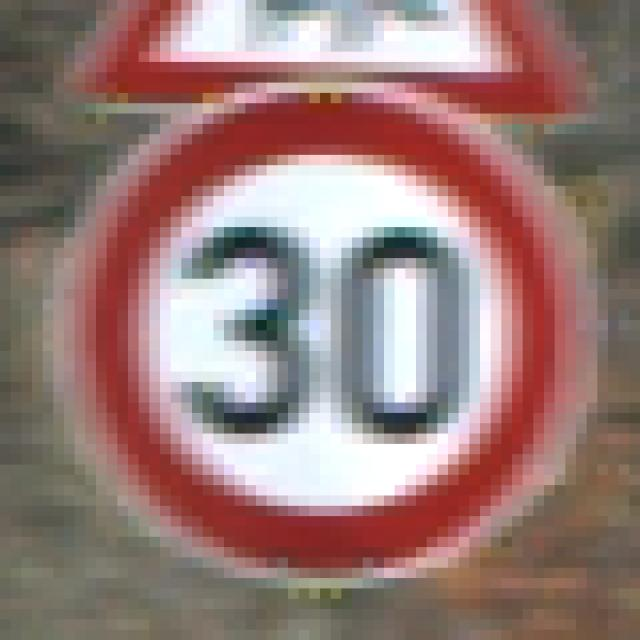Speed Limit -30-: (48, 57, 581, 573)
